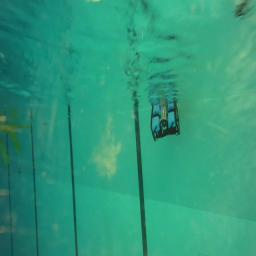front: (151, 102, 180, 142)
